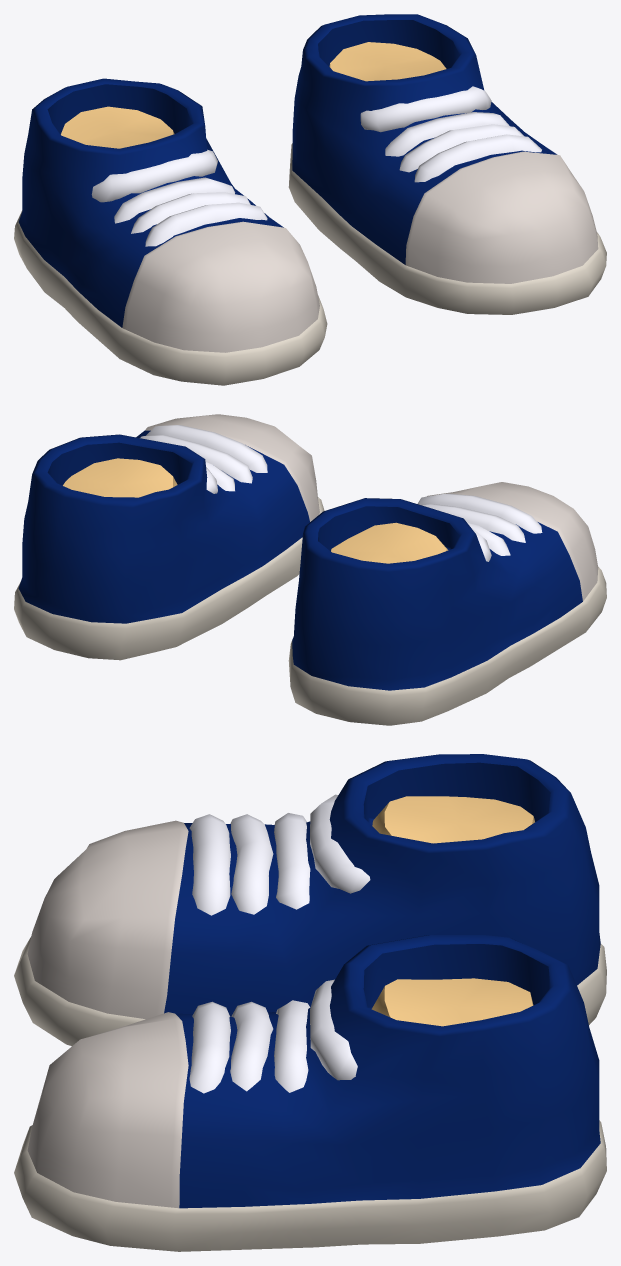
File: Shoes_13_04.fbx
3 views of the same model, one above another, from view 1: azimuth 30°, elevation 25°; view 2: azimuth 150°, elevation 25°; view 3: azimuth 270°, elevation 25° (orthographic). The views are drawn at different scales.
Parts seen in each view (by area): view 1: Shoes_13_04; view 2: Shoes_13_04; view 3: Shoes_13_04.
Part boxes in pixels (box(x1,y1,x2,y2)): Shoes_13_04: box(14, 14, 606, 385); Shoes_13_04: box(14, 414, 606, 725); Shoes_13_04: box(14, 754, 606, 1251).
Size of the model in its own units: 30.33 by 9.21 by 23.86.
